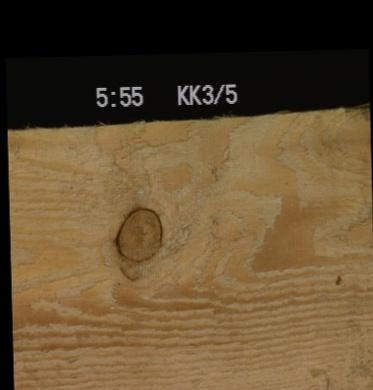dry_knot: (110, 203, 162, 261)
